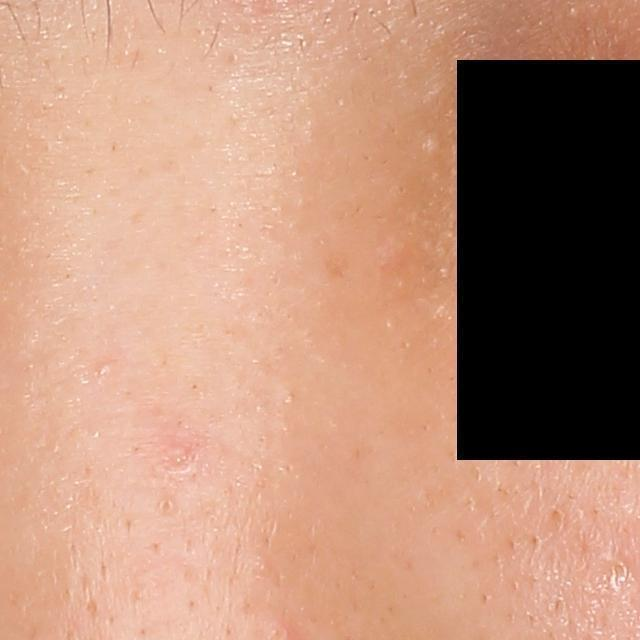comedo: (607, 557, 629, 593), (421, 135, 443, 157), (548, 505, 567, 527), (158, 496, 176, 514), (97, 359, 111, 378)
